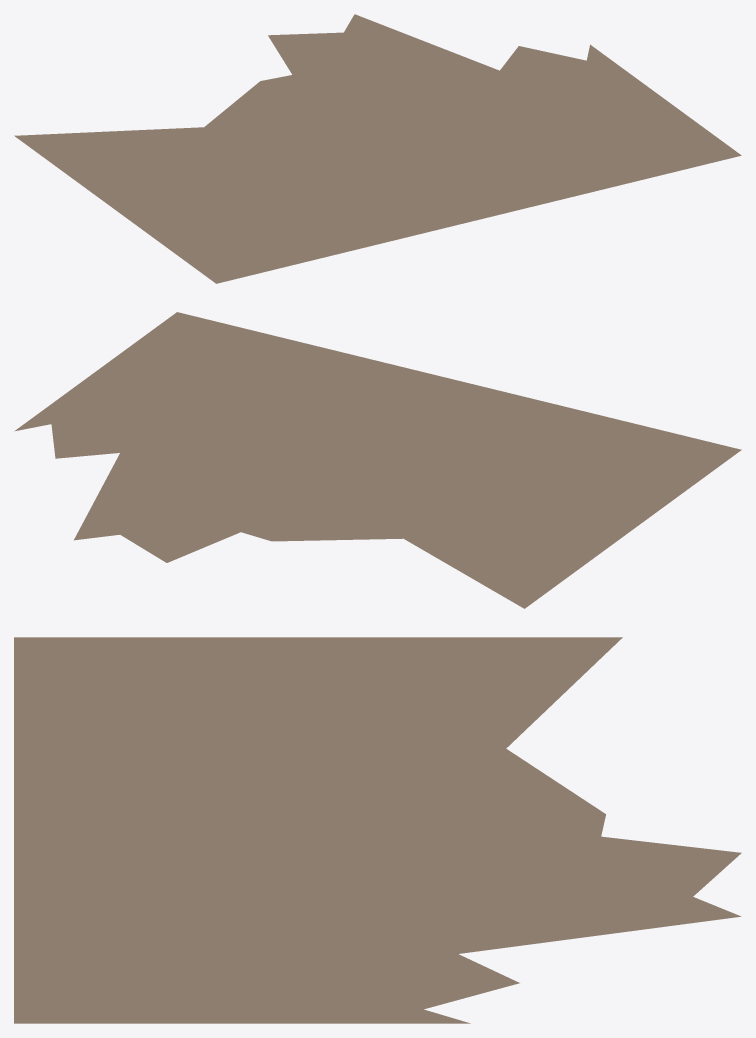
The model's file is Letter3.fbx.
3 views of the same model, one above another, from view 1: azimuth 30°, elevation 25°; view 2: azimuth 150°, elevation 25°; view 3: azimuth 270°, elevation 25° (orthographic). The views are drawn at different scales.
Parts seen in each view (by area): view 1: Cube.049; view 2: Cube.049; view 3: Cube.049.
Boxes of the visible parts, left/top/right/bottom form: Cube.049: left=14, top=14, right=741, bottom=283; Cube.049: left=14, top=312, right=741, bottom=608; Cube.049: left=14, top=637, right=741, bottom=1023.
Size of the model in its own units: 60.37 by 0 by 48.12.
